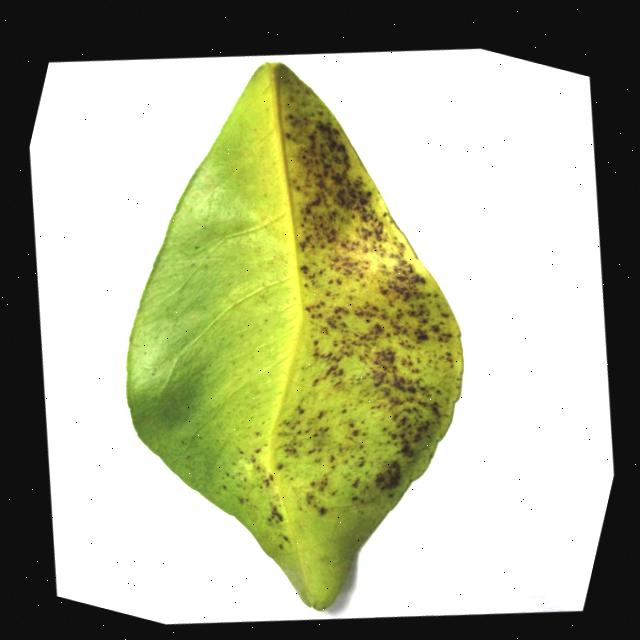melanose: (125, 62, 462, 609)
